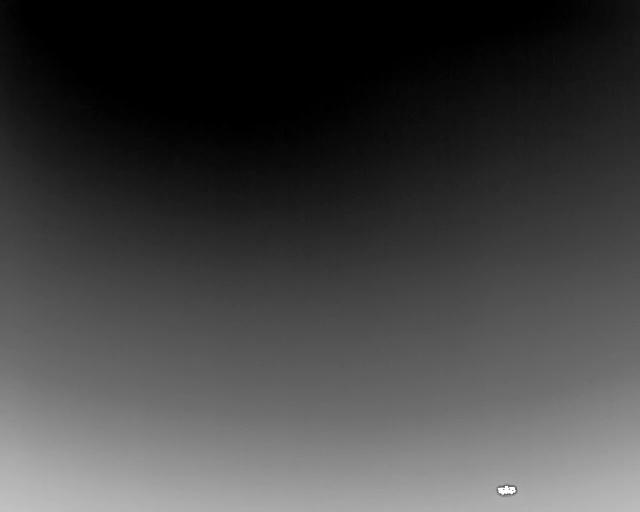fpv-drone: (496, 484, 517, 496)
